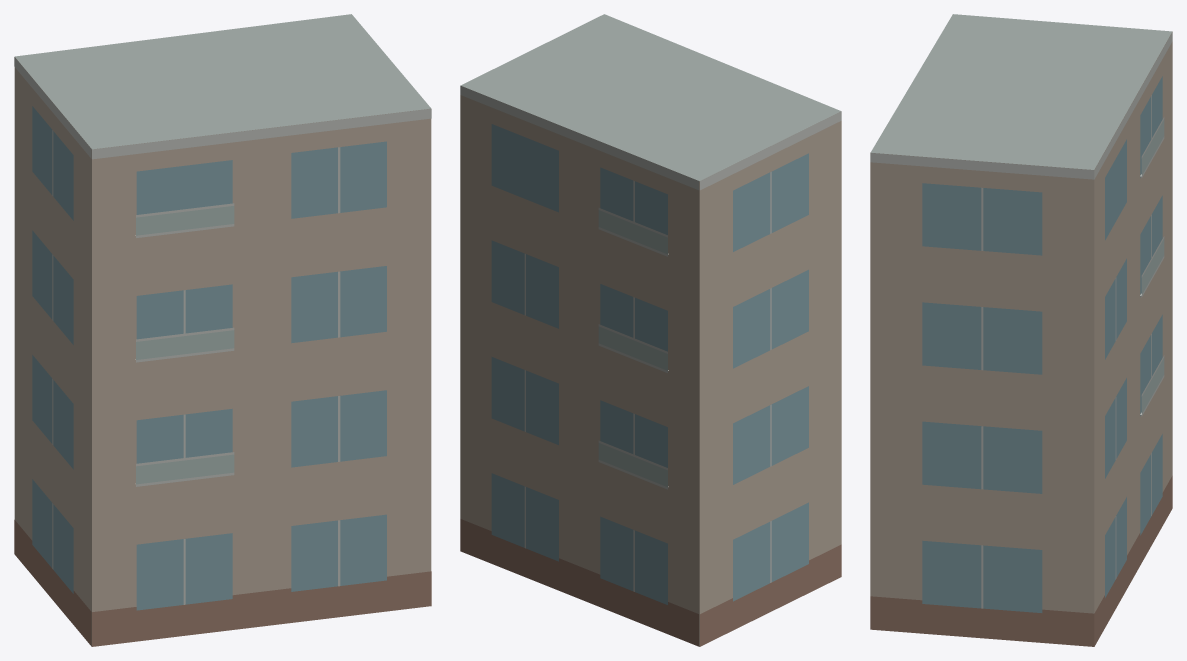
The model's file is survey-upis-32749979.glb.
3 views of the same model, side by side, from view 1: azimuth 30°, elevation 25°; view 2: azimuth 150°, elevation 25°; view 3: azimuth 270°, elevation 25° (orthographic). The views are drawn at different scales.
Visible parts, largest first — view 1: survey-upis-32749979.tmp; view 2: survey-upis-32749979.tmp; view 3: survey-upis-32749979.tmp.
Boxes of the visible parts, <box> form: survey-upis-32749979.tmp: <box>14,14,431,646</box>; survey-upis-32749979.tmp: <box>460,14,841,646</box>; survey-upis-32749979.tmp: <box>870,14,1172,646</box>.
Size of the model in its own units: 8.5 by 12.1 by 6.96.
